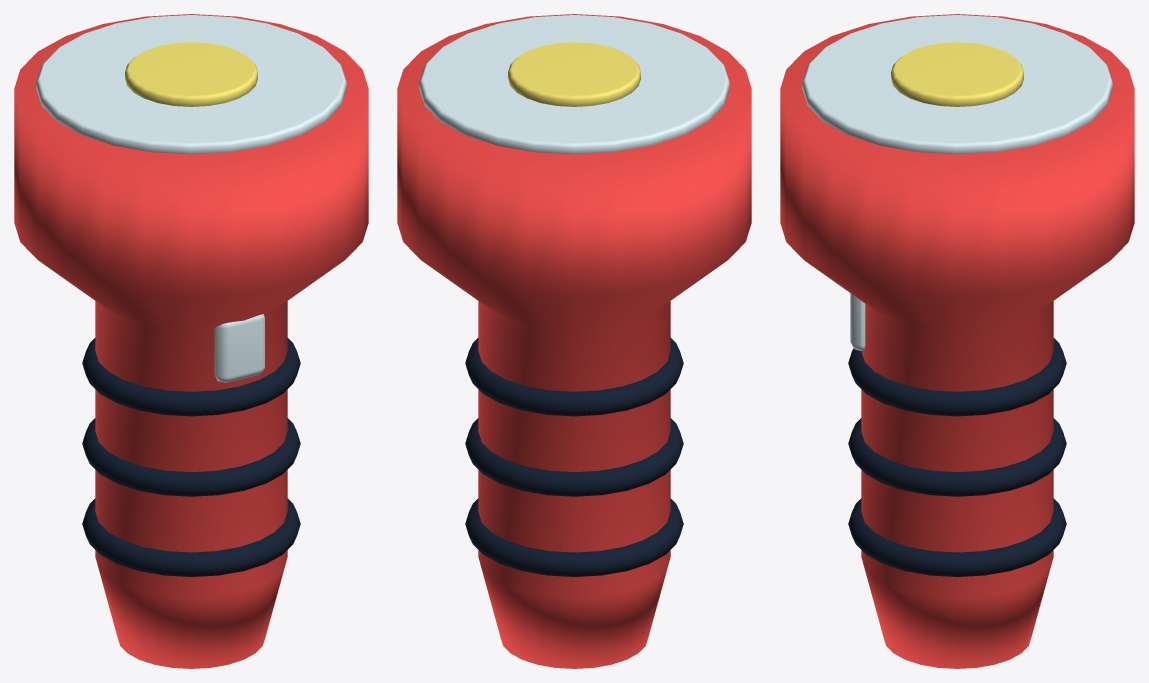
File: flashlight.glb
The picture shows the model from 3 angles, left to right: view 1: azimuth 30°, elevation 25°; view 2: azimuth 150°, elevation 25°; view 3: azimuth 270°, elevation 25°; orthographic projection.
Visible parts, largest first — view 1: flashlight; view 2: flashlight; view 3: flashlight.
Part boxes in pixels (x1,y1,x2,y2): flashlight: (14, 14, 368, 668); flashlight: (397, 14, 751, 668); flashlight: (780, 14, 1134, 668).
Size of the model in its own units: 0.5647 by 1 by 0.5647.
Materials: 1 (1 with a texture image).
